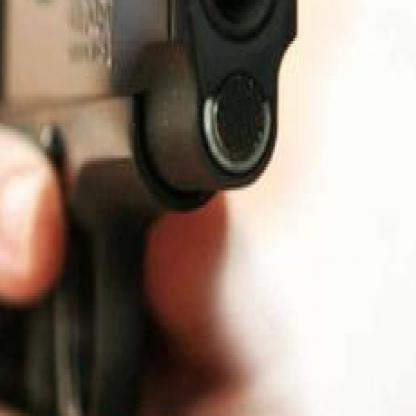gun: (0, 0, 310, 414)
